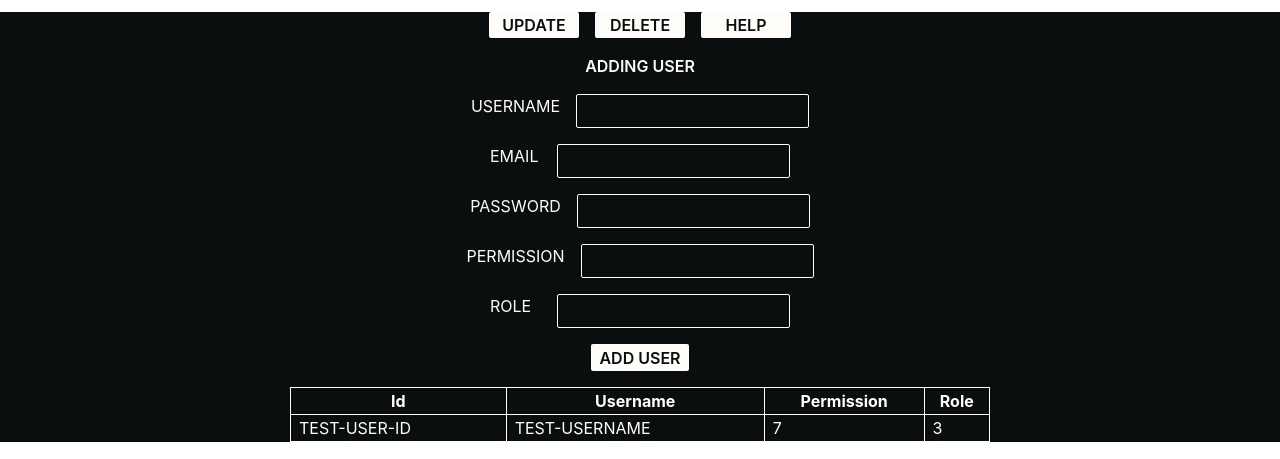
it: Admin Dash › Should show delete user after delete button click
Click the button with test id "dashboard-delete-menu-button".
click(640, 25)  # box [595,12,685,38]
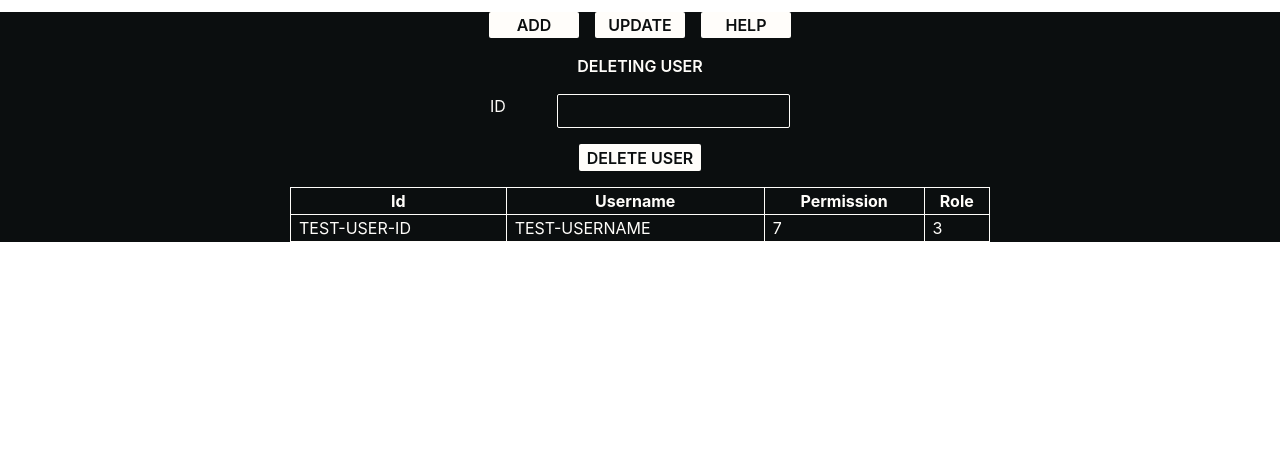
Now the element with test id "admin-dash-delete-user-container" is shown, box [490,54,790,171]
